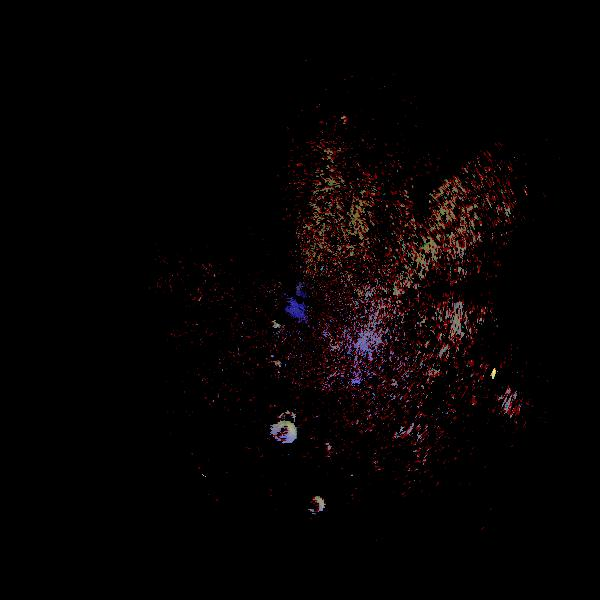roost: (274, 421, 298, 445), (306, 495, 327, 516), (278, 410, 299, 431), (302, 508, 317, 523)
